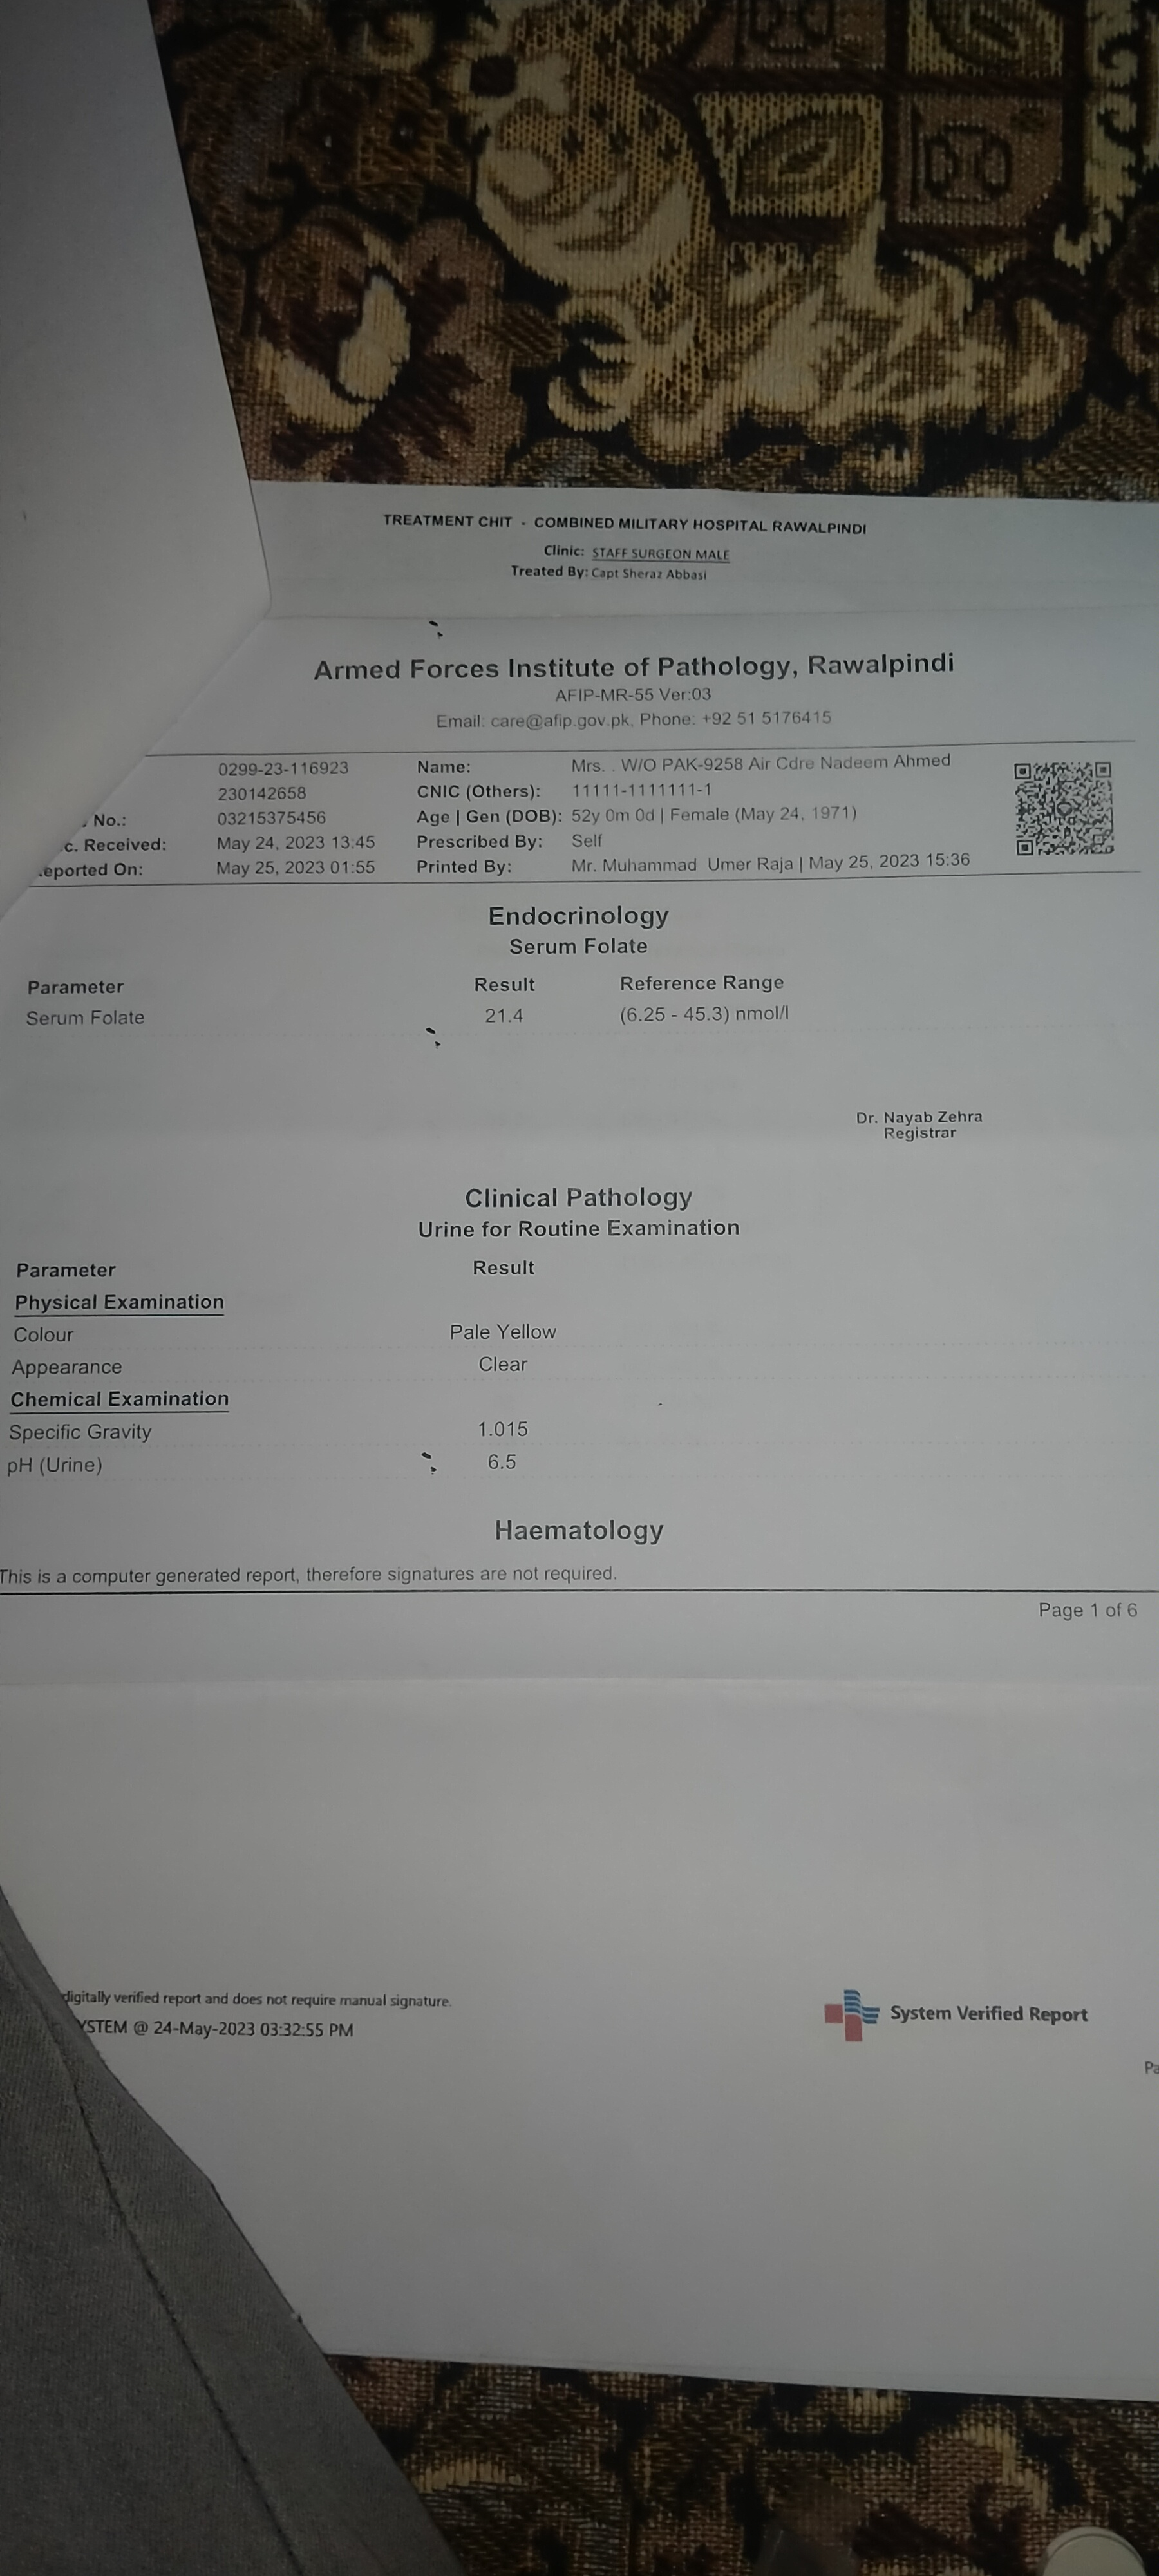report: (3, 966, 1001, 1569)
